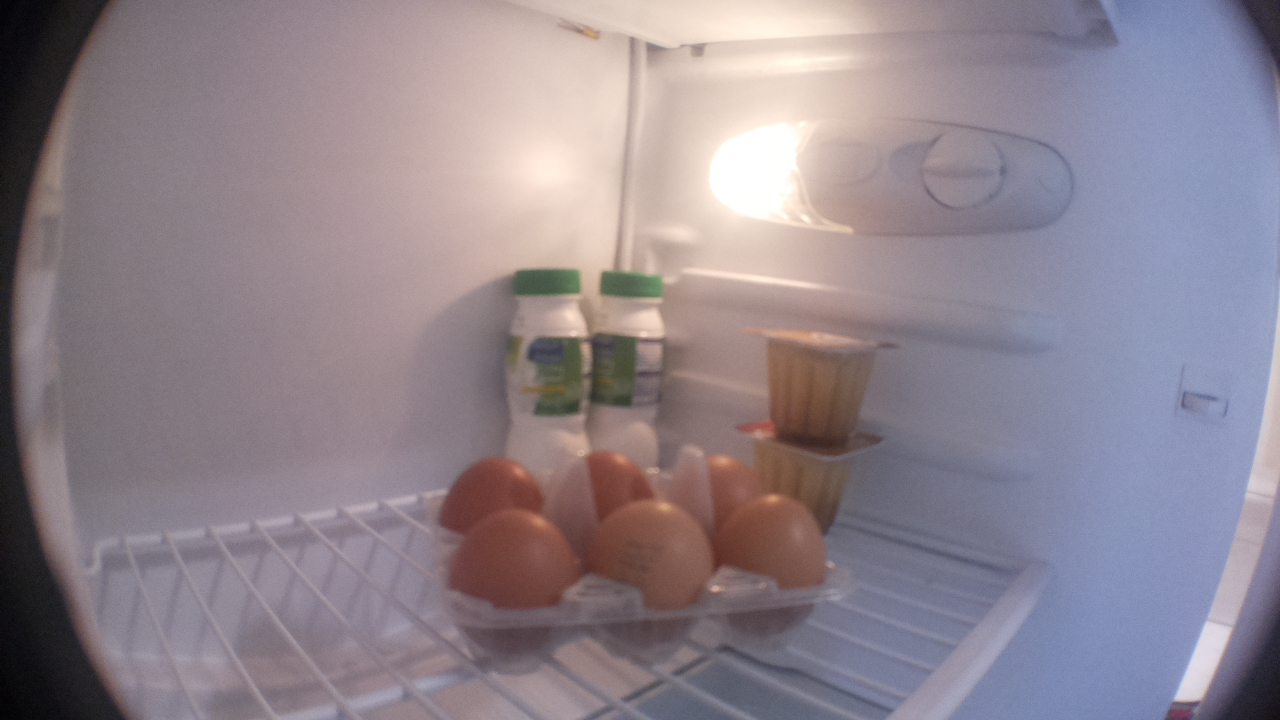caramel: (741, 326, 902, 447), (739, 418, 889, 541)
egg: (583, 494, 718, 654), (441, 504, 580, 658), (724, 496, 838, 657), (437, 451, 548, 537), (557, 451, 655, 522), (692, 445, 772, 513)
laban: (502, 268, 589, 492), (586, 268, 669, 482)
